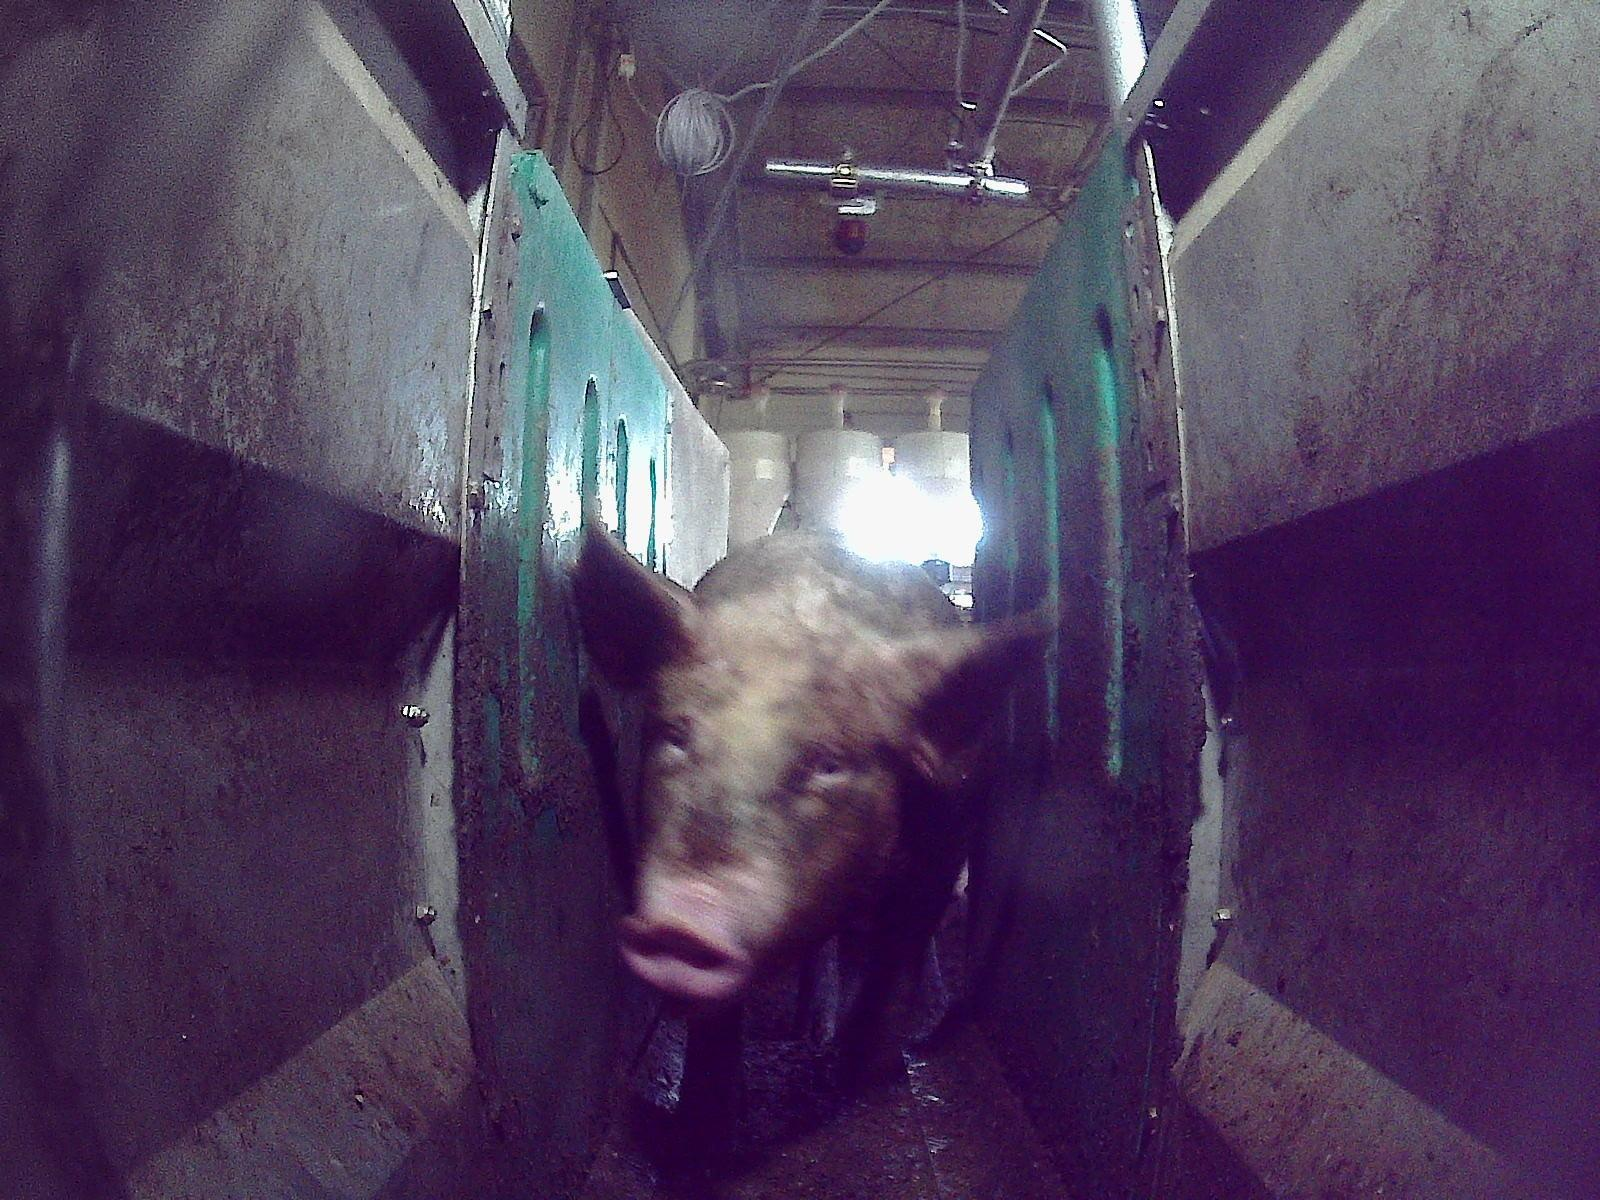Face: (618, 613, 911, 1002)
